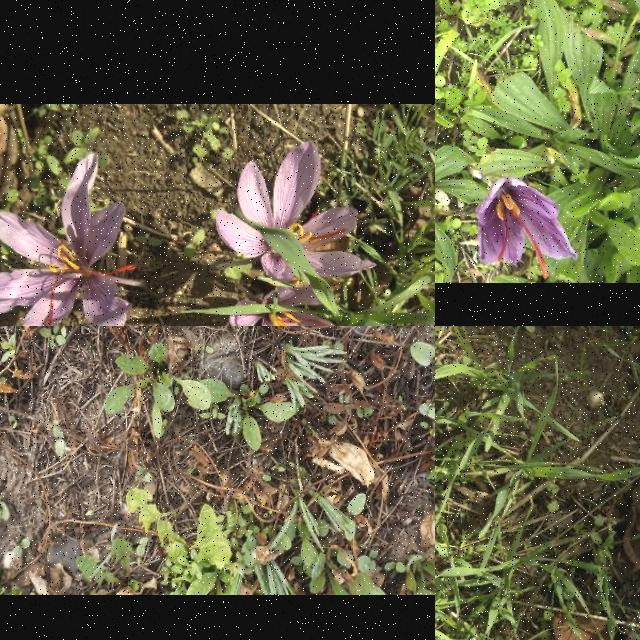flower: (215, 142, 378, 282), (0, 153, 128, 326), (474, 176, 578, 280), (230, 287, 342, 326)
